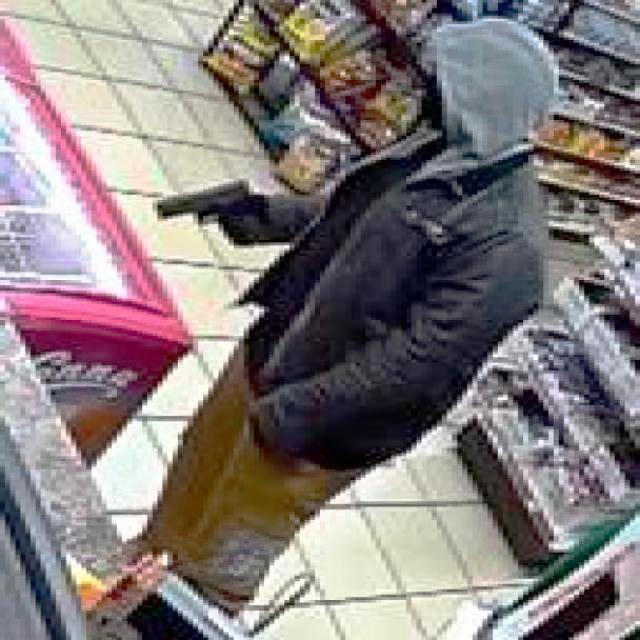Gun: (154, 158, 258, 238)
